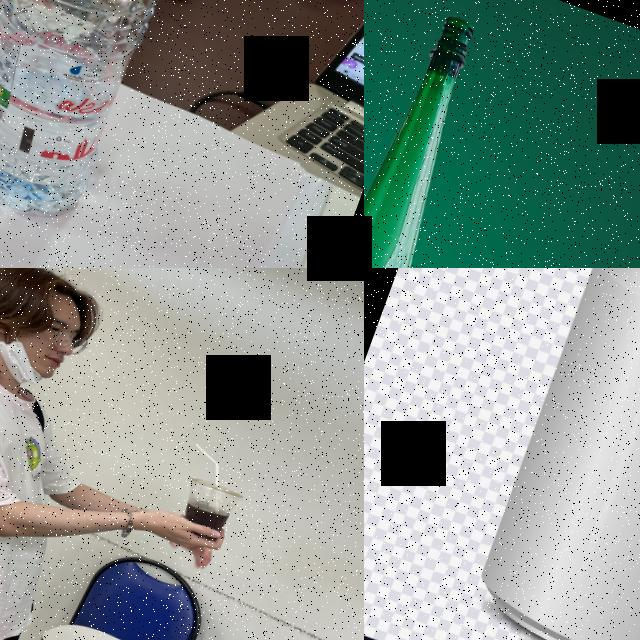bottle: (0, 0, 199, 234), (364, 0, 504, 268)
can: (463, 268, 640, 640)
cup: (170, 474, 247, 548)
